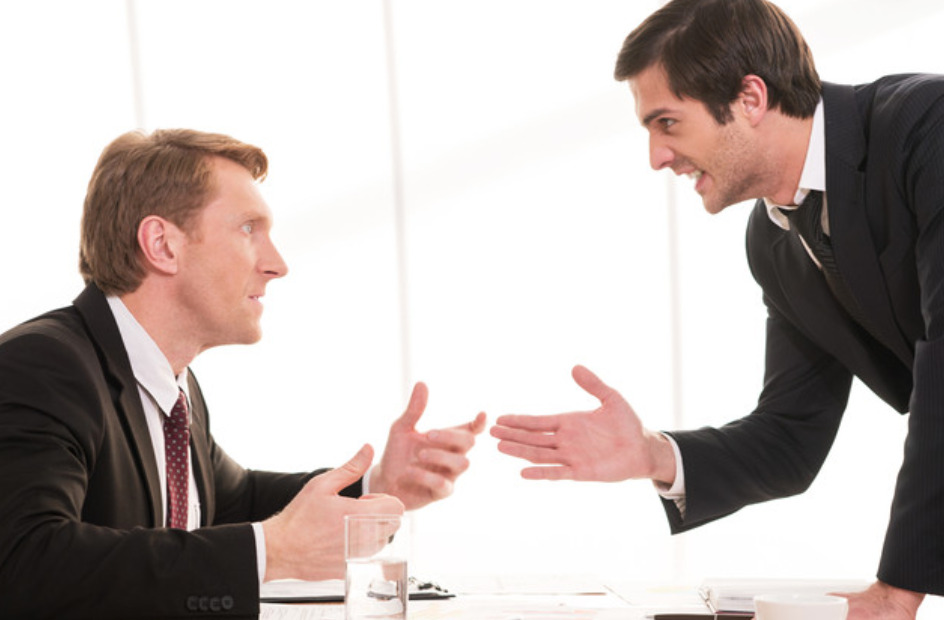Bad: (1, 1, 943, 516)
